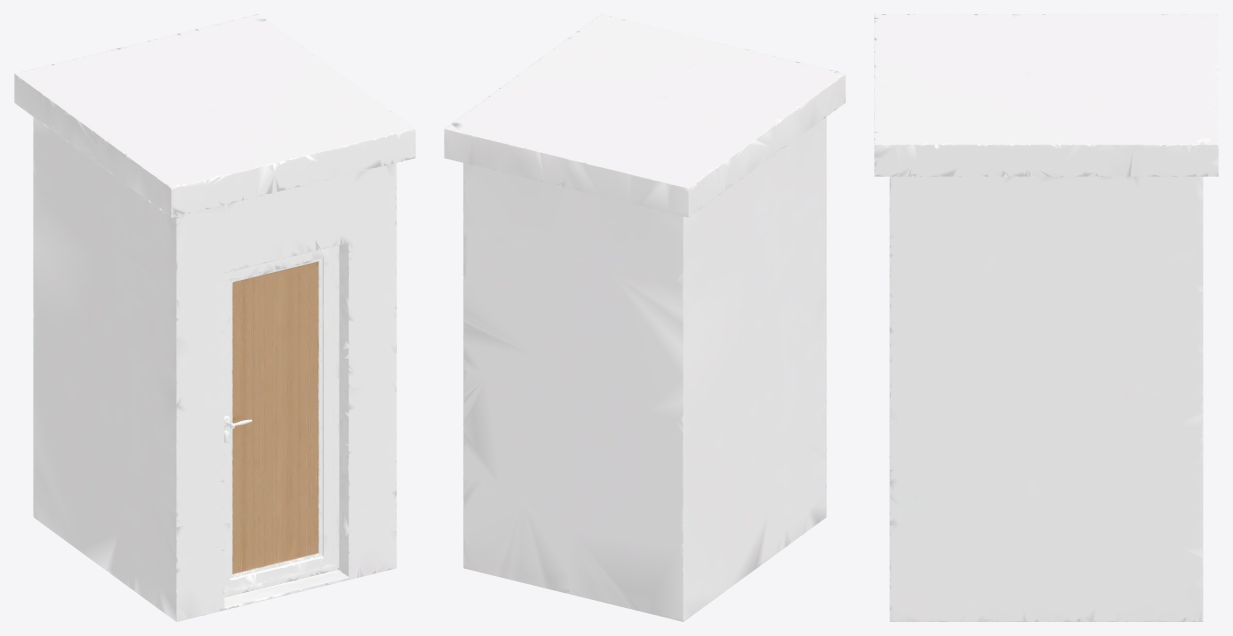
The model's file is entrada_bano.glb.
3 views of the same model, side by side, from view 1: azimuth 30°, elevation 25°; view 2: azimuth 150°, elevation 25°; view 3: azimuth 270°, elevation 25° (orthographic). The views are drawn at different scales.
Size of the model in its own units: 1.1 by 1.9 by 1.23.
1 material, 1 textured.
